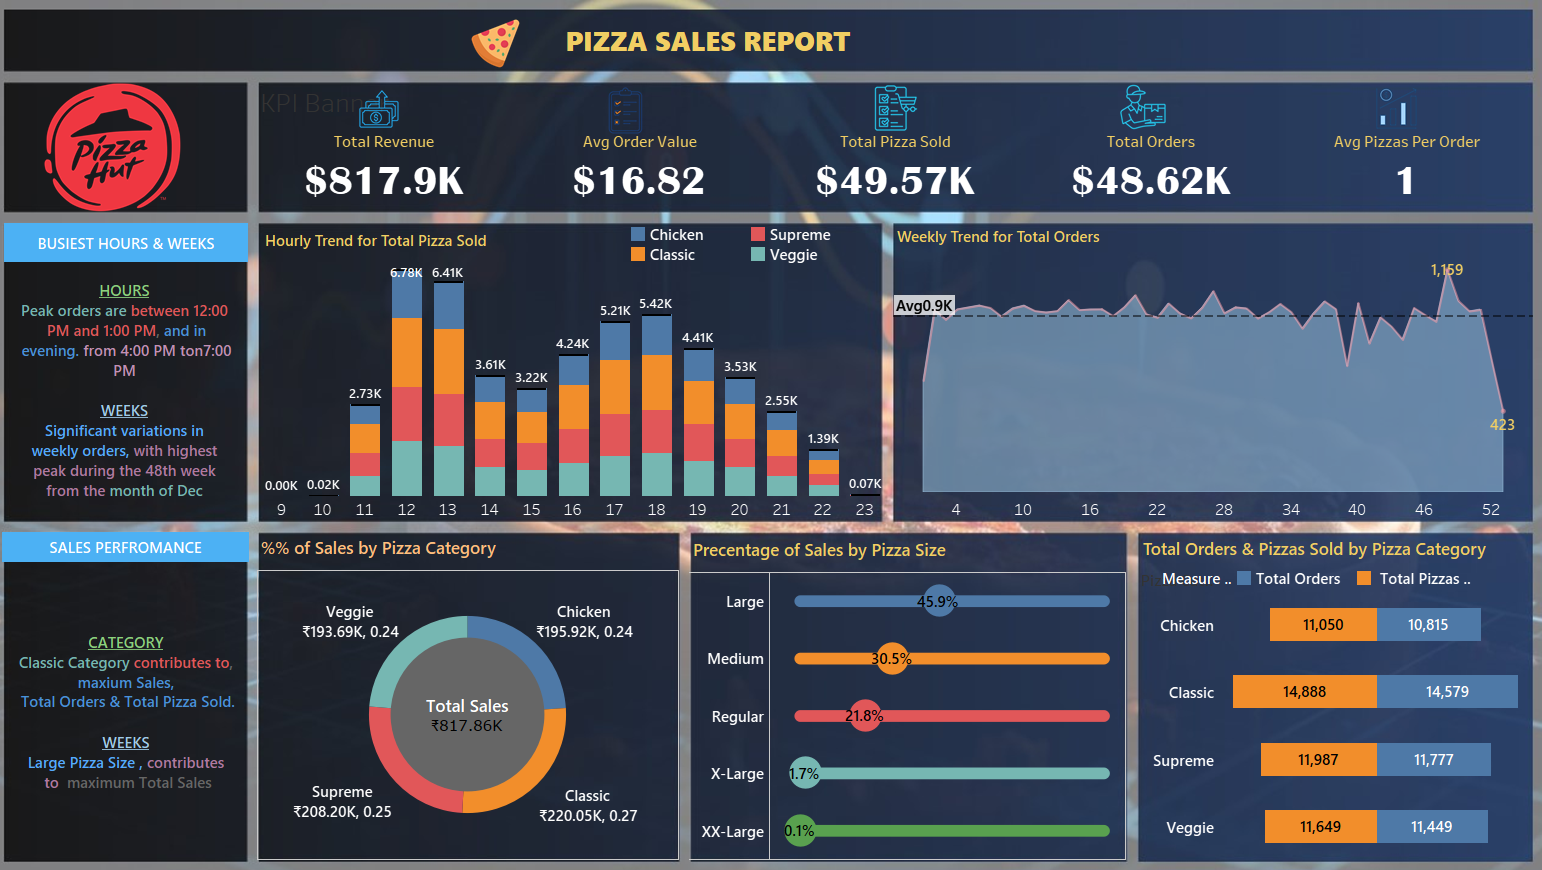

What the dashboard file says about the page in this screenshot:
{"tool":"tableau","page":{"name":"Dashboard 1","canvas":[1600,900],"ordinal":0},"visuals":[{"type":"image","param":"C:/Users/bhaga/Downloads/Pizza Tableau 1.jpg","box":[8,8,1584,884]},{"type":"text","box":[578,21,322,63]},{"type":"image","param":"C:/Users/bhaga/OneDrive/Desktop/Project/Pizza Sales Project(SQL)/Pizza Sales Ima","box":[501,31,84,50]},{"type":"worksheet","title":"KPI Banner","mark":"Automatic","box":[287,94,1279,130]},{"type":"image","param":"C:/Users/bhaga/OneDrive/Desktop/Project/Pizza Sales Project(SQL)/Pizza Sales Ima","box":[74,95,150,130]},{"type":"image","param":"C:/Users/bhaga/OneDrive/Desktop/Project/Pizza Sales Project(SQL)/Pizza Sales Ima","box":[1150,96,79,47]},{"type":"image","param":"C:/Users/bhaga/OneDrive/Desktop/Project/Pizza Sales Project(SQL)/Pizza Sales Ima","box":[903,97,76,47]},{"type":"image","param":"C:/Users/bhaga/OneDrive/Desktop/Project/Pizza Sales Project(SQL)/Pizza Sales Ima","box":[387,99,75,45]},{"type":"image","param":"C:/Users/bhaga/OneDrive/Desktop/Project/Pizza Sales Project(SQL)/Pizza Sales Ima","box":[632,99,58,48]},{"type":"image","param":"C:/Users/bhaga/OneDrive/Desktop/Project/Pizza Sales Project(SQL)/Pizza Sales Ima","box":[1406,100,55,42]},{"type":"worksheet","title":"Weekly Trend for Total Orders","mark":"Area","rows":["Calculation_443886085904019458","Calculation_443886085904019458"],"cols":["order_date"],"box":[924,235,640,300]},{"type":"text","box":[35,236,244,39]},{"type":"legend","title":"Hourly Trend for Total Pizza Sold ","param":"[federated.1wjgbnf1mwcnt118wqr2w0tjfiip].[none:pizza_category:nk]","box":[659,237,254,46]},{"type":"worksheet","title":"Hourly Trend for Total Pizza Sold ","mark":"Bar","rows":["Calculation_443886085905108996","Calculation_443886085905108996"],"cols":["order_time"],"box":[292,239,625,295]},{"type":"text","box":[34,272,243,263]},{"type":"text","box":[33,545,247,30]},{"type":"worksheet","title":"% of Sales by Pizza Category","mark":"Pie","rows":["Calculation_1133499780447522817","Calculation_1133499780447522817"],"box":[288,545,422,328]},{"type":"worksheet","title":"Total Orders & Pizzas Sold by Pizza Category","mark":"Automatic","rows":["pizza_category"],"box":[1170,546,393,327]},{"type":"worksheet","title":"Precentage of Sales by Pizza Size","mark":"Line","rows":["pizza_size"],"box":[720,547,437,326]},{"type":"text","box":[37,575,240,300]},{"type":"legend","title":"Total Orders & Pizzas Sold by Pizza Category","param":"[federated.1wjgbnf1mwcnt118wqr2w0tjfiip].[:Measure Names]","box":[1193,581,333,30]}]}

Visuals, with their boxes in screenshot pixels (x1, y1, x2, y2), scaled from the page's 1600x900 canvas onto the 1542x870 screenshot:
image: crop(8, 8, 1534, 862)
text: crop(557, 20, 867, 81)
image: crop(483, 30, 564, 78)
"KPI Banner" worksheet: crop(277, 91, 1509, 217)
image: crop(71, 92, 216, 218)
image: crop(1108, 93, 1184, 138)
image: crop(870, 94, 944, 139)
image: crop(373, 96, 445, 139)
image: crop(609, 96, 665, 142)
image: crop(1355, 97, 1408, 137)
"Weekly Trend for Total Orders" worksheet (Area marks): crop(891, 227, 1507, 517)
text: crop(34, 228, 269, 266)
"Hourly Trend for Total Pizza Sold " legend: crop(635, 229, 880, 274)
"Hourly Trend for Total Pizza Sold " worksheet (Bar marks): crop(281, 231, 884, 516)
text: crop(33, 263, 267, 517)
text: crop(32, 527, 270, 556)
"% of Sales by Pizza Category" worksheet (Pie marks): crop(278, 527, 684, 844)
"Total Orders & Pizzas Sold by Pizza Category" worksheet: crop(1128, 528, 1506, 844)
"Precentage of Sales by Pizza Size" worksheet (Line marks): crop(694, 529, 1115, 844)
text: crop(36, 556, 267, 846)
"Total Orders & Pizzas Sold by Pizza Category" legend: crop(1150, 562, 1471, 591)
